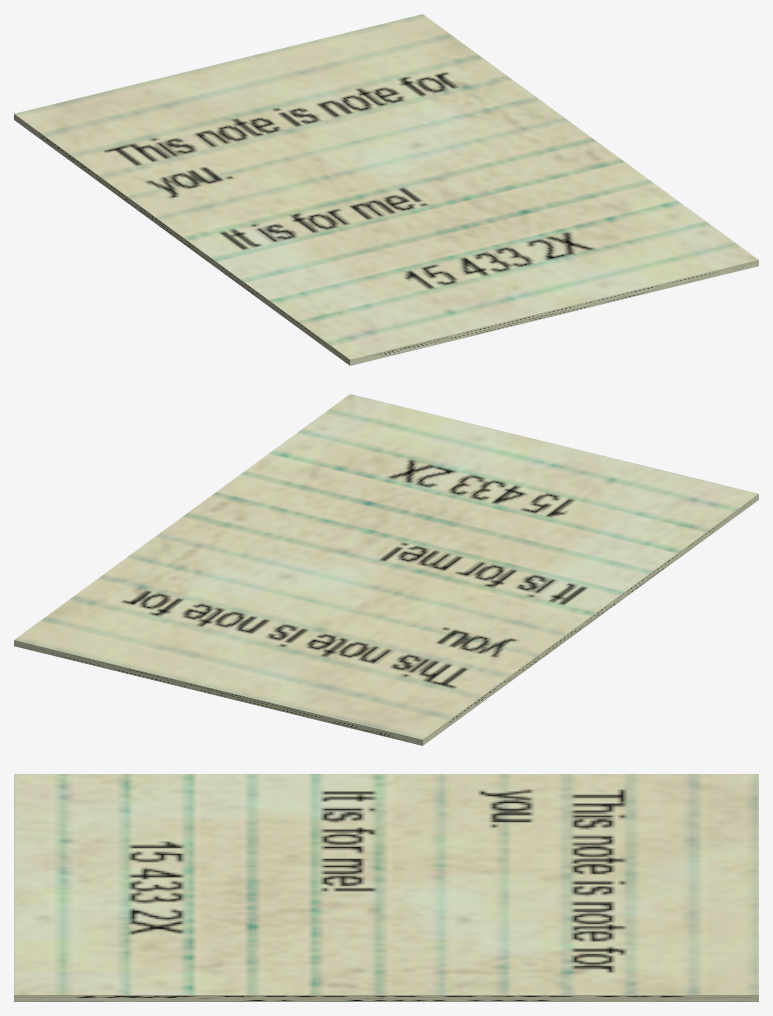
File: item_note01.dae
3 renders of one model, top to bottom at view 1: azimuth 30°, elevation 25°; view 2: azimuth 150°, elevation 25°; view 3: azimuth 270°, elevation 25°, orthographic. The views are drawn at different scales.
Visible parts, largest first — view 1: note; view 2: note; view 3: note.
Boxes of the visible parts, x1,y1,x2,y2 form: note: (14,14,758,365); note: (14,394,758,745); note: (14,774,758,1001).
Size of what is drawn, in the model's own units: 0.1009 by 0.00146 by 0.1436.
